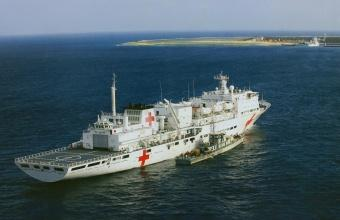otherboat: (180, 126, 242, 169)
warship: (13, 68, 272, 183)
